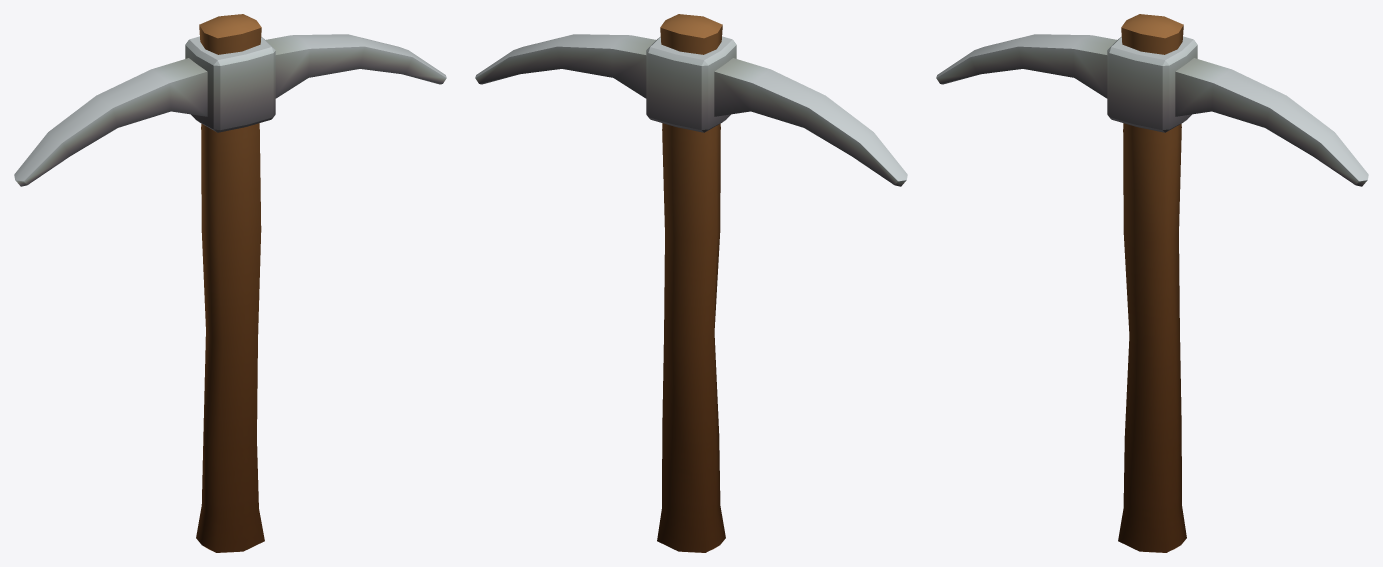
File: Pickaxe_02.glb
3 views of the same model, side by side, from view 1: azimuth 30°, elevation 25°; view 2: azimuth 150°, elevation 25°; view 3: azimuth 330°, elevation 25° (orthographic).
Parts seen in each view (by area): view 1: Pickaxe_02; view 2: Pickaxe_02; view 3: Pickaxe_02.
Part boxes in pixels (box(x1,y1,x2,y2)): Pickaxe_02: box(14, 14, 446, 552); Pickaxe_02: box(475, 14, 907, 552); Pickaxe_02: box(936, 14, 1368, 552).
Bounding box in the file's own units: 0.8812 × 1.03 × 0.1256.
Materials: 1 (1 with a texture image).
